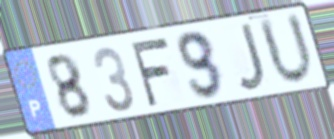3: (92, 44, 135, 113)
8: (47, 52, 92, 120)
9: (175, 28, 227, 101)
F: (127, 34, 172, 109)
J: (235, 20, 268, 93)
U: (255, 10, 317, 88)
